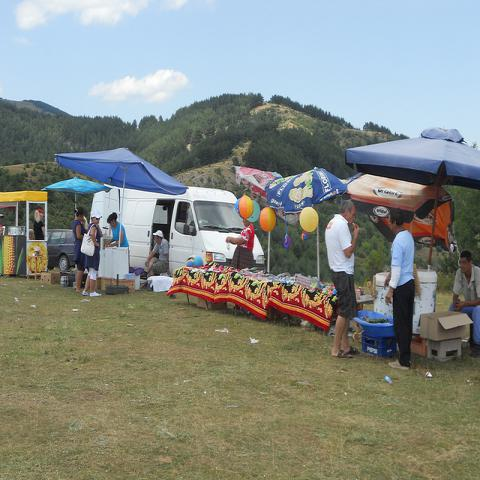car: (47, 230, 75, 271)
truck: (90, 186, 266, 271)
